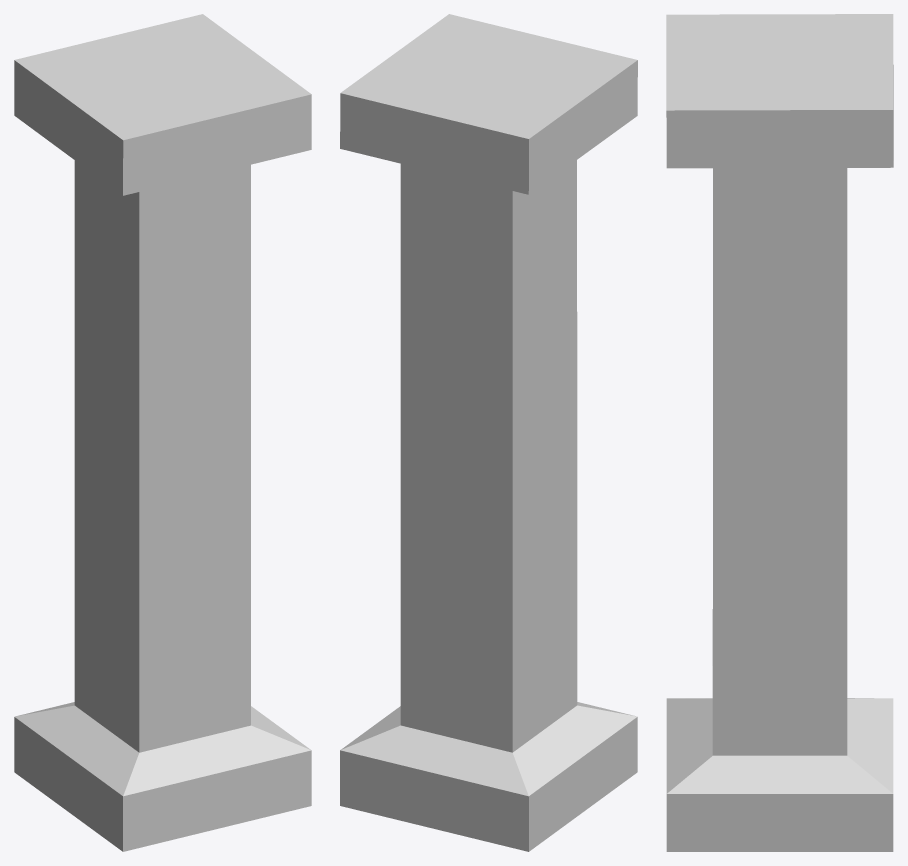
File: square_pillar.glb
The picture shows the model from 3 angles, left to right: view 1: azimuth 30°, elevation 25°; view 2: azimuth 150°, elevation 25°; view 3: azimuth 270°, elevation 25°; orthographic projection. The views are drawn at different scales.
Parts seen in each view (by area): view 1: Square_Pillar; view 2: Square_Pillar; view 3: Square_Pillar.
Part boxes in pixels (x1,y1,x2,y2): Square_Pillar: (14,14,311,851); Square_Pillar: (340,14,637,851); Square_Pillar: (666,14,893,851).
Size of the model in its own units: 2.95 by 10.65 by 2.95.
Materials: 1 (1 with a texture image).
